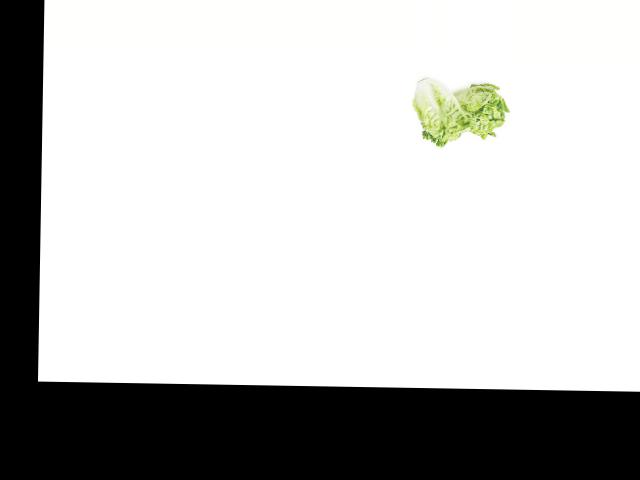lettuce: (448, 74, 509, 140)
